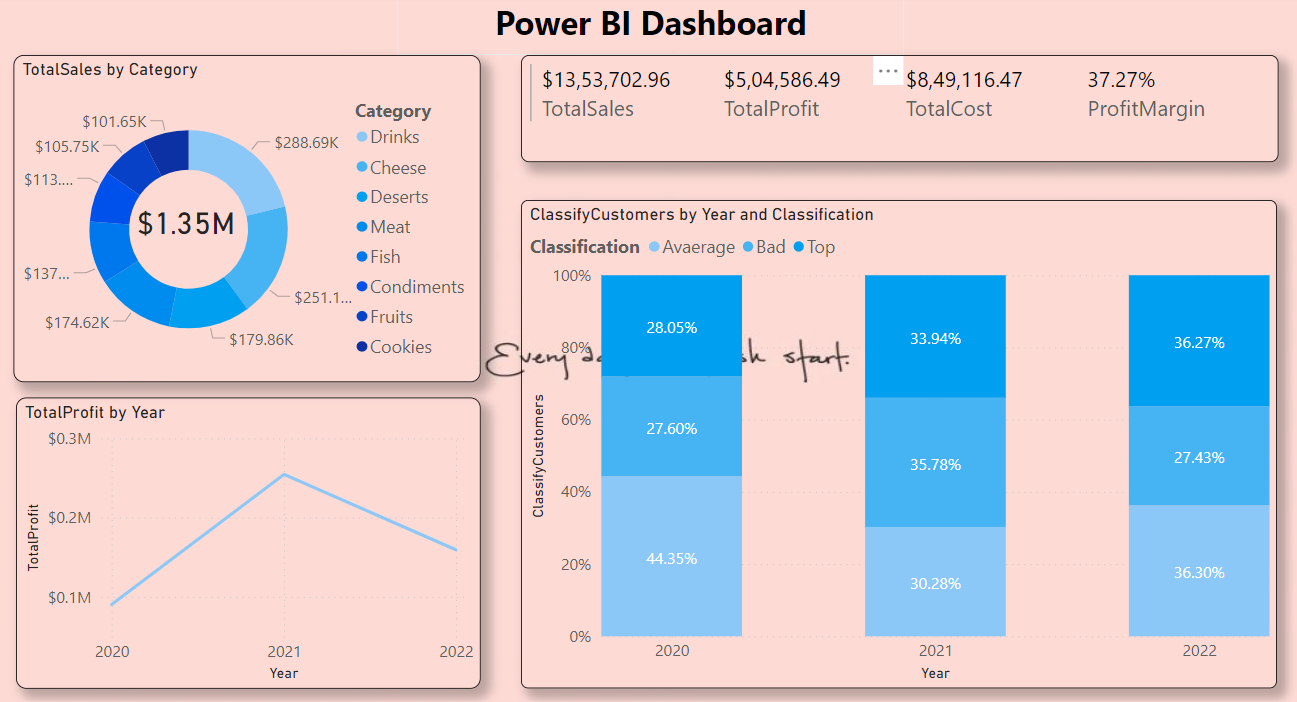

The dashboard page shown, as its layout file describes it:
{"tool":"powerbi","page":{"name":"Final Report","canvas":[1280,720],"ordinal":10},"visuals":[{"type":"textbox","box":[391.9,0,496.2,58.8],"z":0},{"type":"donutChart","fields":{"Y":["MeasuresTbl.TotalSales"],"Category":["OrderTbl.Category"]},"box":[17.5,45,457.5,333.8],"z":1000},{"type":"card","fields":{"Values":["MeasuresTbl.TotalSales"]},"box":[126.2,187.5,120,67.5],"z":2000},{"type":"hundredPercentStackedColumnChart","fields":{"Category":["DatesTbl.Date.Variation.Date Hierarchy.Year","DatesTbl.Date.Variation.Date Hierarchy.Quarter","DatesTbl.Date.Variation.Date Hierarchy.Month","DatesTbl.Date.Variation.Date Hierarchy.Day"],"Y":["MeasuresTbl.ClassifyCustomers"],"Series":["CustomerClassificationTbl.Classification"]},"box":[17.5,386.2,457.5,293.8],"z":3000},{"type":"multiRowCard","fields":{"Values":["MeasuresTbl.TotalSales","MeasuresTbl.TotalProfit","MeasuresTbl.TotalCost","MeasuresTbl.ProfitMargin"]},"box":[523.8,45,730,118.8],"z":4000},{"type":"textbox","box":[523.8,176.2,730,121.2],"z":5000},{"type":"lineChart","fields":{"Y":["MeasuresTbl.TotalProfit"],"Category":["DatesTbl.Date.Variation.Date Hierarchy.Year","DatesTbl.Date.Variation.Date Hierarchy.Quarter","DatesTbl.Date.Variation.Date Hierarchy.Month","DatesTbl.Date.Variation.Date Hierarchy.Day"]},"box":[515,386.2,746.2,310],"z":6000}]}

Visuals, with their boxes on the page's 1280x720 design canvas (x1, y1, x2, y2). These are canvas units, not pixel positions in the 1297x702 screenshot, which may show the page scaled, cropped or inside an application window:
textbox: bbox=[392, 0, 888, 59]
donutChart - MeasuresTbl.TotalSales x OrderTbl.Category: bbox=[18, 45, 475, 379]
card - MeasuresTbl.TotalSales: bbox=[126, 188, 246, 255]
hundredPercentStackedColumnChart - DatesTbl.Date.Variation.Date Hierarchy.Year x DatesTbl.Date.Variation.Date Hierarchy.Quarter: bbox=[18, 386, 475, 680]
multiRowCard - MeasuresTbl.TotalSales x MeasuresTbl.TotalProfit: bbox=[524, 45, 1254, 164]
textbox: bbox=[524, 176, 1254, 297]
lineChart - MeasuresTbl.TotalProfit x DatesTbl.Date.Variation.Date Hierarchy.Year: bbox=[515, 386, 1261, 696]
